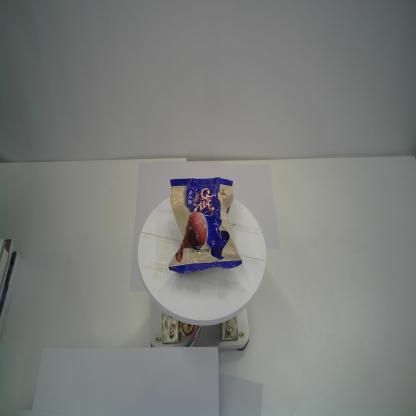Dessert: (168, 177, 242, 274)
